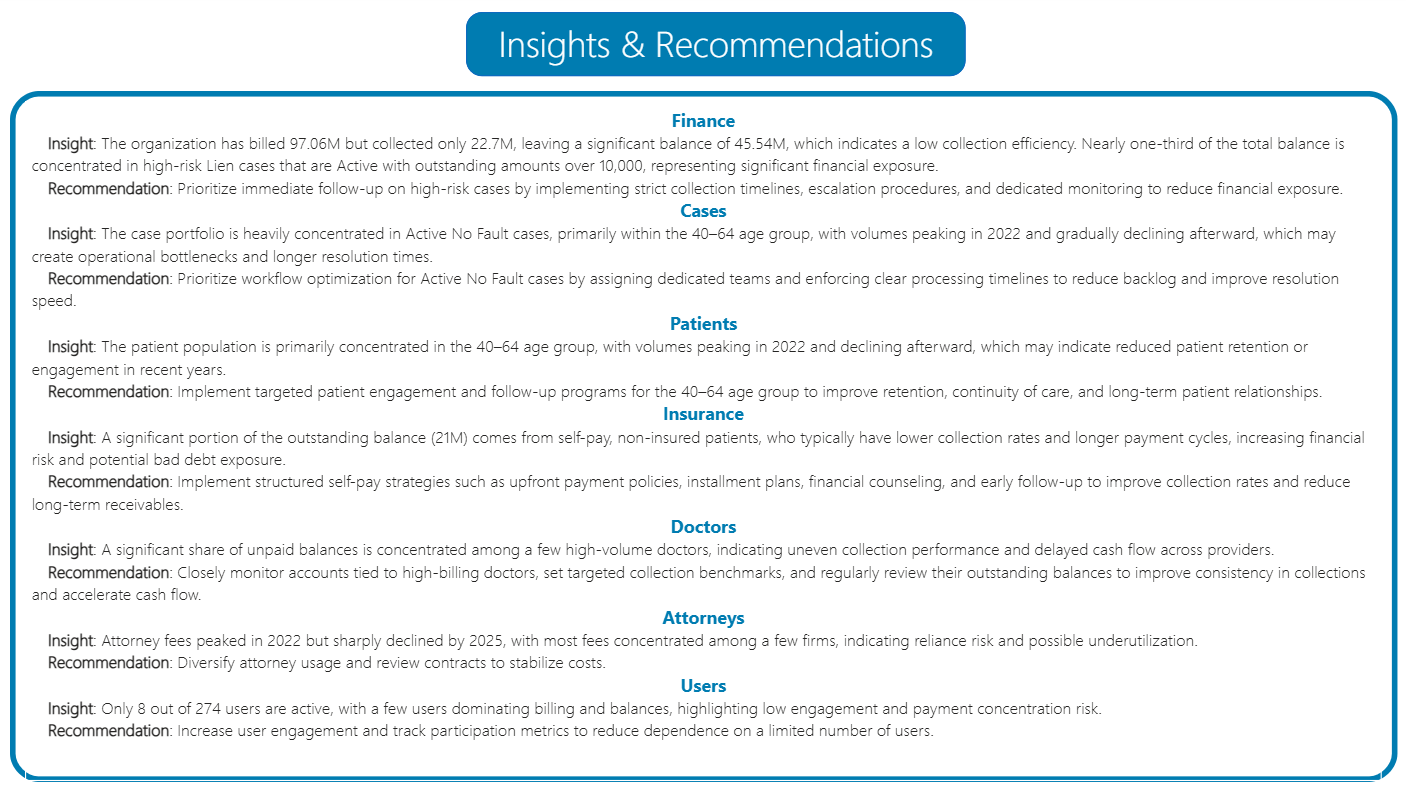

Layout of this report page (visuals, bound fields, positions):
{"tool":"powerbi","page":{"name":"Insights","canvas":[1280,720],"ordinal":5},"visuals":[{"type":"shape","box":[427.5,15,447.5,57.5],"z":0},{"type":"textbox","box":[427.5,15,447.5,71.2],"z":1000},{"type":"shape","box":[18.8,86.2,1242.5,618.8],"z":2000},{"type":"textbox","box":[32.5,95,1215,608.8],"z":3000}]}

Visuals, with their boxes in screenshot pixels (x1, y1, x2, y2), scaled from the page's 1280x720 canvas onto the 1406x792 screenshot:
shape: locate(470, 16, 961, 80)
textbox: locate(470, 16, 961, 95)
shape: locate(21, 95, 1385, 776)
textbox: locate(36, 105, 1370, 774)
